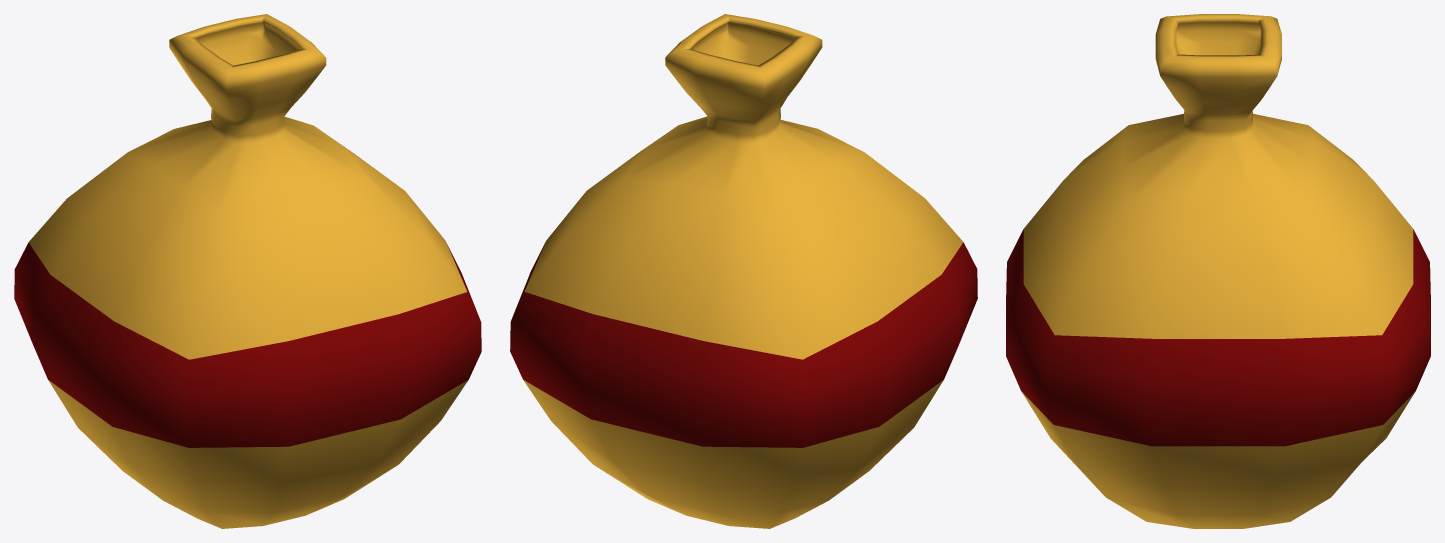
File: ceramicPot.fbx
3 views of the same model, side by side, from view 1: azimuth 30°, elevation 25°; view 2: azimuth 150°, elevation 25°; view 3: azimuth 270°, elevation 25° (orthographic).
Parts seen in each view (by area): view 1: Cube; view 2: Cube; view 3: Cube.
Part boxes in pixels (x1,y1,x2,y2): Cube: [14, 14, 481, 528]; Cube: [510, 14, 977, 528]; Cube: [1006, 14, 1430, 528].
Size of the model in its own units: 576 by 576 by 701.
